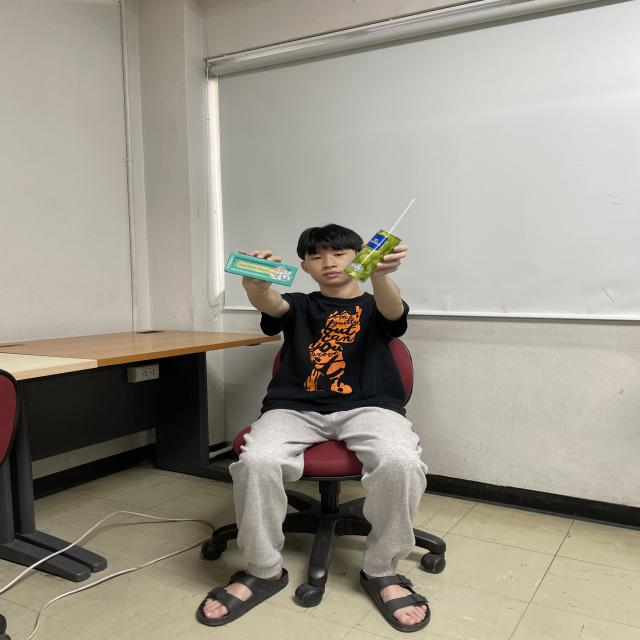can: (342, 228, 402, 284)
